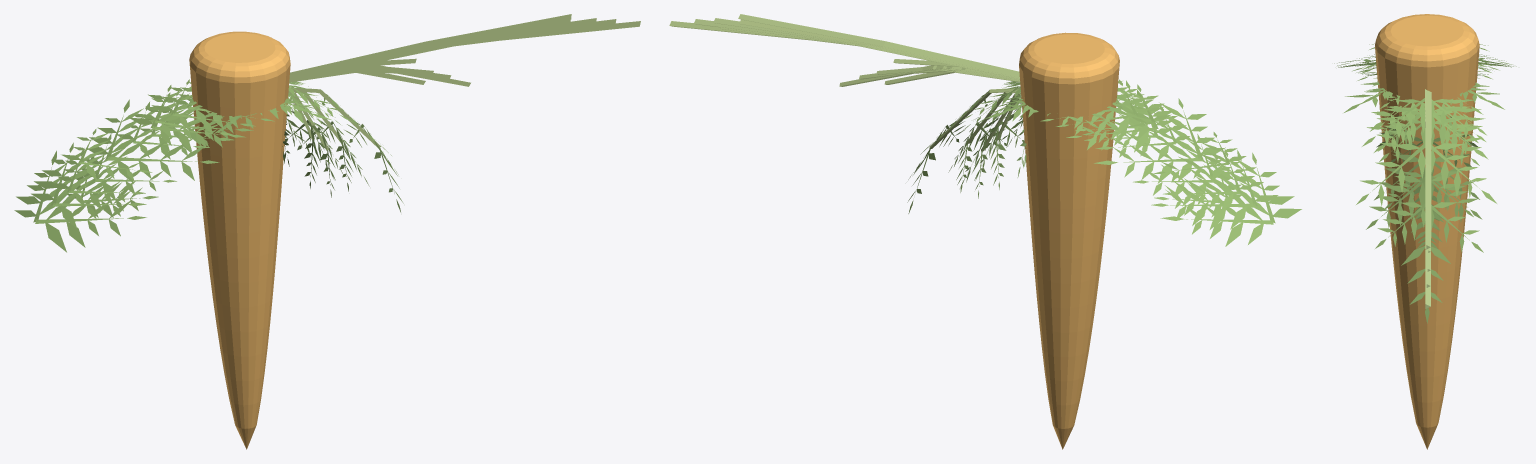
Rendered from carrot_harvest_v14.articulated.glb.
The picture shows the model from 3 angles, left to right: view 1: azimuth 30°, elevation 25°; view 2: azimuth 150°, elevation 25°; view 3: azimuth 270°, elevation 25°; orthographic projection. The views are drawn at different scales.
Parts seen in each view (by area): view 1: root, leaf05_link2, leaf03_link2, leaf04_link2, leaf05_link0, leaf00_link2, leaf02_link2, leaf01_link2, leaf05_link1, leaf02_link0, leaf03_link0; view 2: root, leaf05_link2, leaf03_link2, leaf04_link2, leaf02_link0, leaf02_link2, leaf00_link2, leaf01_link2, leaf05_link0, leaf03_link0, leaf01_link0, leaf04_link0; view 3: root, leaf05_link2, leaf03_link2, leaf04_link2, leaf00_link2, leaf02_link0, leaf01_link2, leaf02_link2.
Boxes of the visible parts, x1=… form: root: x1=189, y1=31, x2=290, y2=449; leaf05_link2: x1=14, y1=79, x2=403, y2=252; leaf03_link2: x1=31, y1=85, x2=369, y2=228; leaf04_link2: x1=50, y1=82, x2=334, y2=210; leaf05_link0: x1=289, y1=21, x2=640, y2=80; leaf00_link2: x1=68, y1=91, x2=343, y2=217; leaf02_link2: x1=61, y1=92, x2=307, y2=180; leaf01_link2: x1=76, y1=98, x2=319, y2=200; leaf05_link1: x1=289, y1=65, x2=470, y2=86; leaf02_link0: x1=290, y1=14, x2=571, y2=72; leaf03_link0: x1=290, y1=19, x2=616, y2=73; root: x1=1019, y1=32, x2=1119, y2=449; leaf05_link2: x1=907, y1=79, x2=1301, y2=246; leaf03_link2: x1=948, y1=84, x2=1278, y2=229; leaf04_link2: x1=975, y1=81, x2=1254, y2=212; leaf02_link0: x1=738, y1=14, x2=1019, y2=77; leaf02_link2: x1=993, y1=90, x2=1246, y2=182; leaf00_link2: x1=960, y1=80, x2=1241, y2=217; leaf01_link2: x1=1004, y1=95, x2=1231, y2=201; leaf05_link0: x1=669, y1=21, x2=1019, y2=79; leaf03_link0: x1=694, y1=19, x2=1019, y2=78; leaf01_link0: x1=739, y1=19, x2=1019, y2=78; leaf04_link0: x1=713, y1=18, x2=1019, y2=78; root: x1=1375, y1=14, x2=1479, y2=449; leaf05_link2: x1=1334, y1=54, x2=1516, y2=323; leaf03_link2: x1=1352, y1=57, x2=1509, y2=248; leaf04_link2: x1=1357, y1=60, x2=1492, y2=220; leaf00_link2: x1=1356, y1=67, x2=1488, y2=243; leaf02_link0: x1=1425, y1=89, x2=1431, y2=249; leaf01_link2: x1=1360, y1=66, x2=1493, y2=166; leaf02_link2: x1=1362, y1=43, x2=1489, y2=147.
Bounding box in the file's own units: 0.244 × 0.1553 × 0.0646.
1 material, 1 textured.
